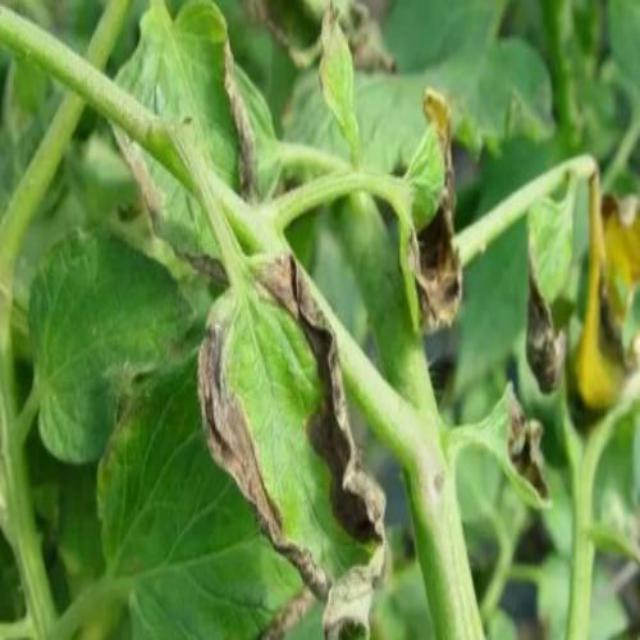Late_blight: (184, 250, 387, 640), (395, 90, 465, 328), (573, 179, 640, 416), (251, 1, 400, 77), (519, 203, 570, 399), (217, 44, 265, 205), (493, 395, 553, 513), (121, 140, 170, 237)
